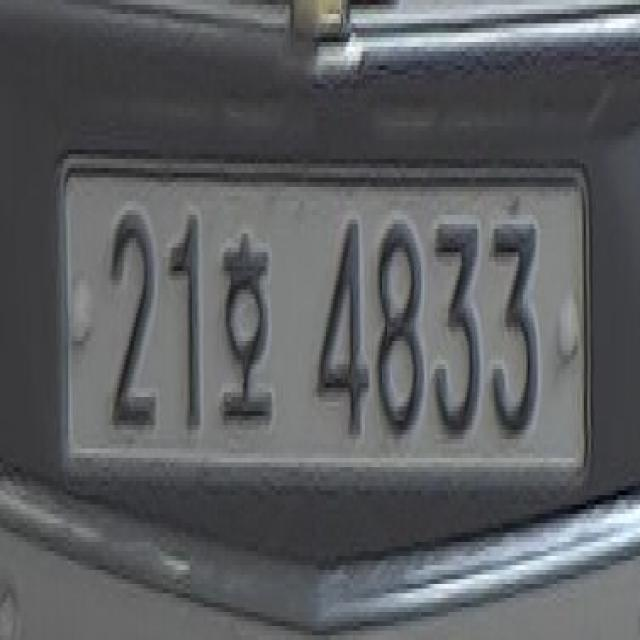1: (166, 195, 209, 445)
2: (106, 198, 160, 438)
3: (488, 200, 546, 452), (431, 198, 484, 450)
4: (307, 198, 372, 444)
8: (376, 196, 426, 452)
ho: (216, 216, 280, 442)
license_plate: (69, 166, 588, 477)
